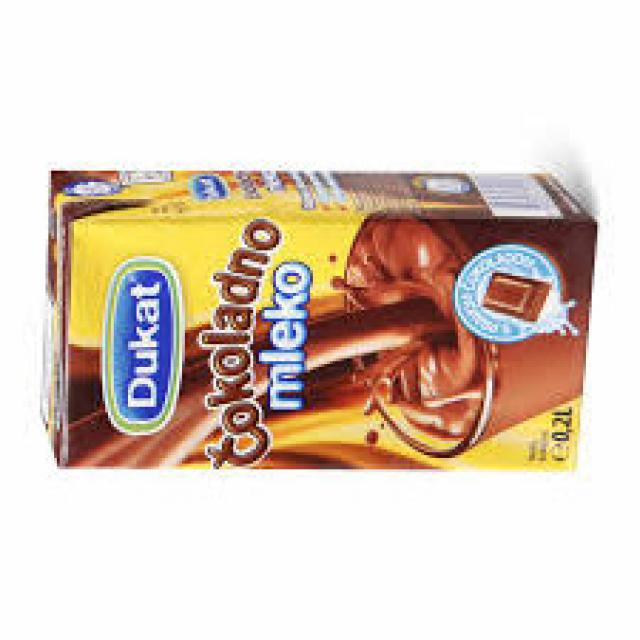non_white_jug: (39, 168, 599, 474)
